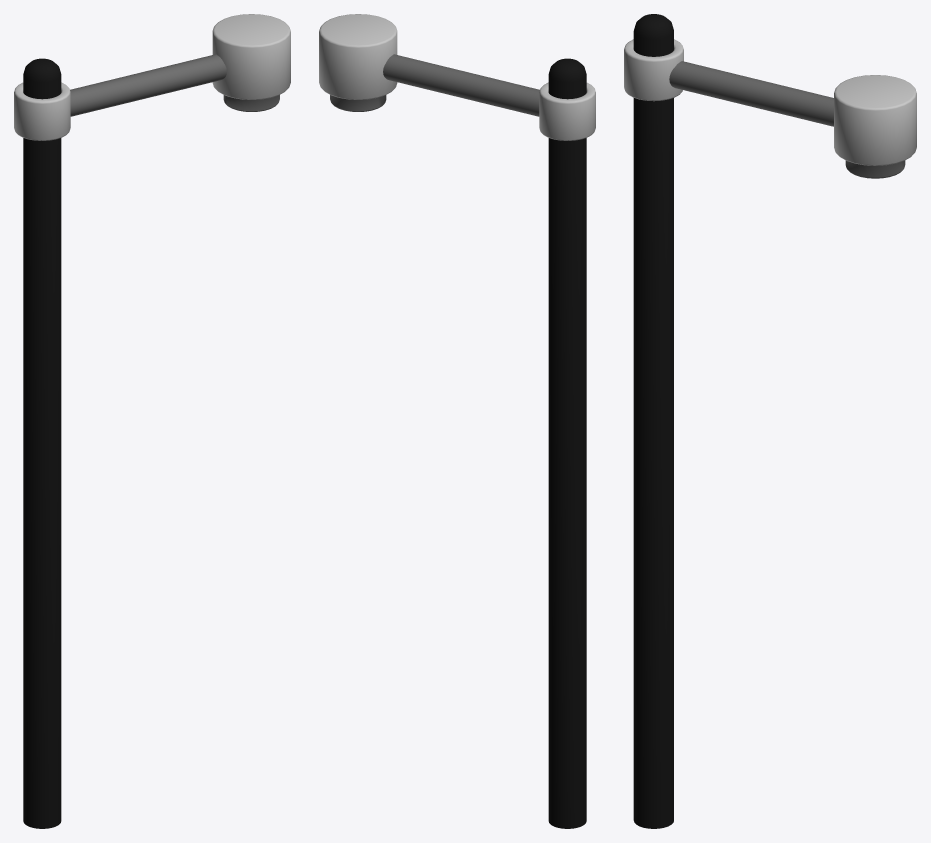
File: drink_machine.fbx
3 views of the same model, side by side, from view 1: azimuth 30°, elevation 25°; view 2: azimuth 150°, elevation 25°; view 3: azimuth 330°, elevation 25° (orthographic). The views are drawn at different scales.
Visible parts, largest first — view 1: drink_machine; view 2: drink_machine; view 3: drink_machine.
Part boxes in pixels (x1,y1,x2,y2): drink_machine: (14,14,290,828); drink_machine: (319,14,595,828); drink_machine: (624,14,916,828).
Size of the model in its own units: 8.29 by 22.46 by 2.1.
